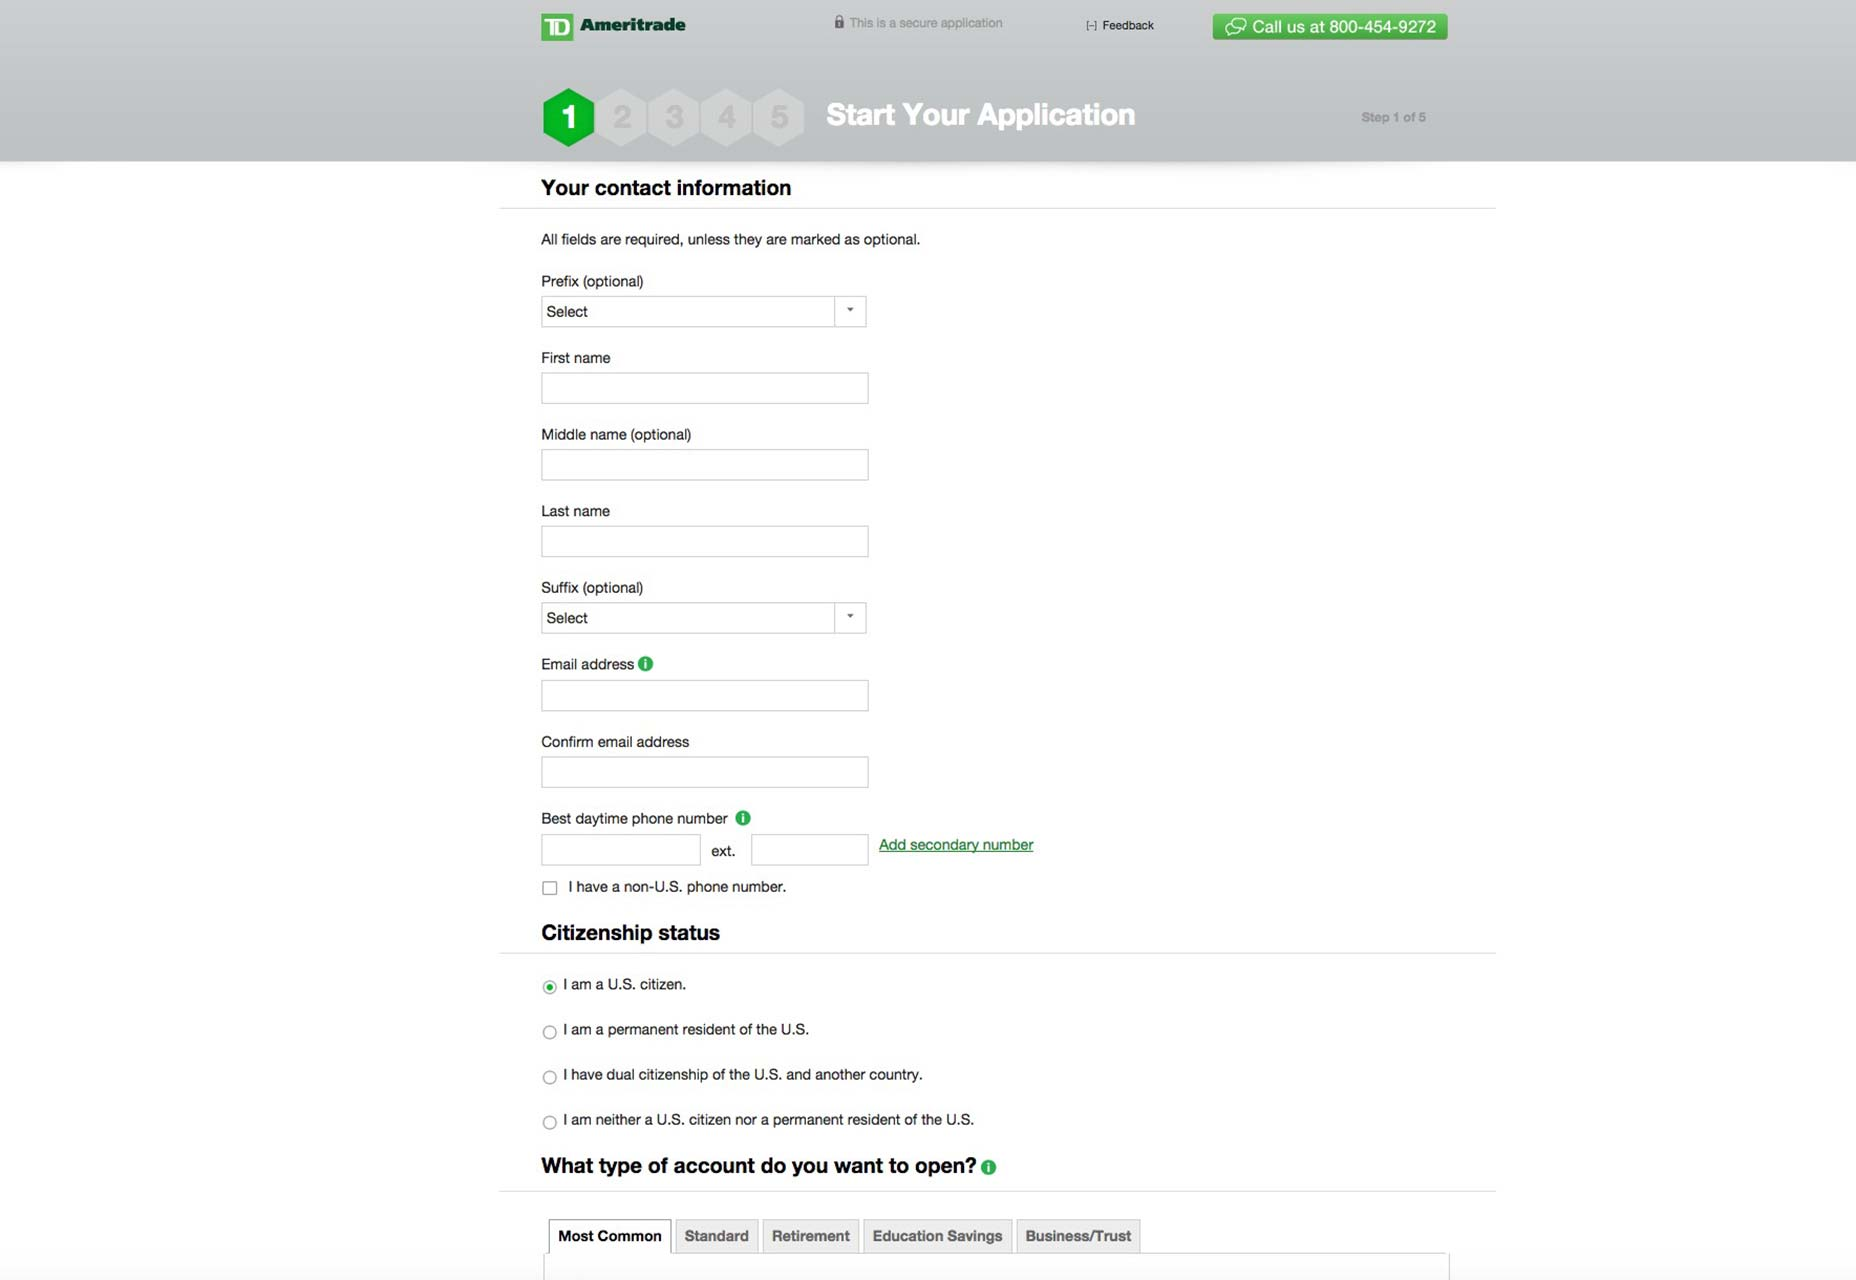_form_: (515, 228, 931, 646), (513, 646, 929, 1061), (496, 916, 1007, 1249)
checkbox: (542, 880, 566, 901)
checkbox_with_label: (535, 874, 791, 902)
field: (540, 751, 867, 788), (540, 369, 872, 405), (542, 523, 870, 558), (542, 677, 869, 712), (540, 295, 872, 328), (542, 447, 872, 481), (542, 601, 867, 634), (542, 830, 701, 867), (750, 832, 870, 866)
field_with_label: (535, 273, 874, 333), (537, 503, 874, 562), (537, 424, 873, 484), (536, 656, 872, 715), (537, 578, 872, 636), (536, 733, 870, 791), (536, 351, 874, 407), (745, 827, 1035, 870), (537, 809, 726, 868), (714, 829, 872, 870)
radio: (542, 1022, 561, 1045), (543, 1067, 563, 1090), (542, 974, 558, 999), (542, 1114, 563, 1133)
radio_with_label: (535, 1109, 973, 1138), (539, 1063, 917, 1095), (536, 1016, 811, 1047), (535, 968, 688, 1001)
